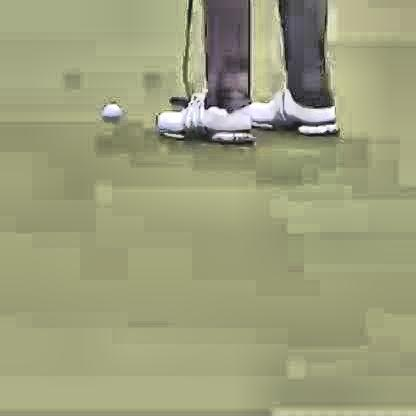golfball: (99, 99, 119, 119)
